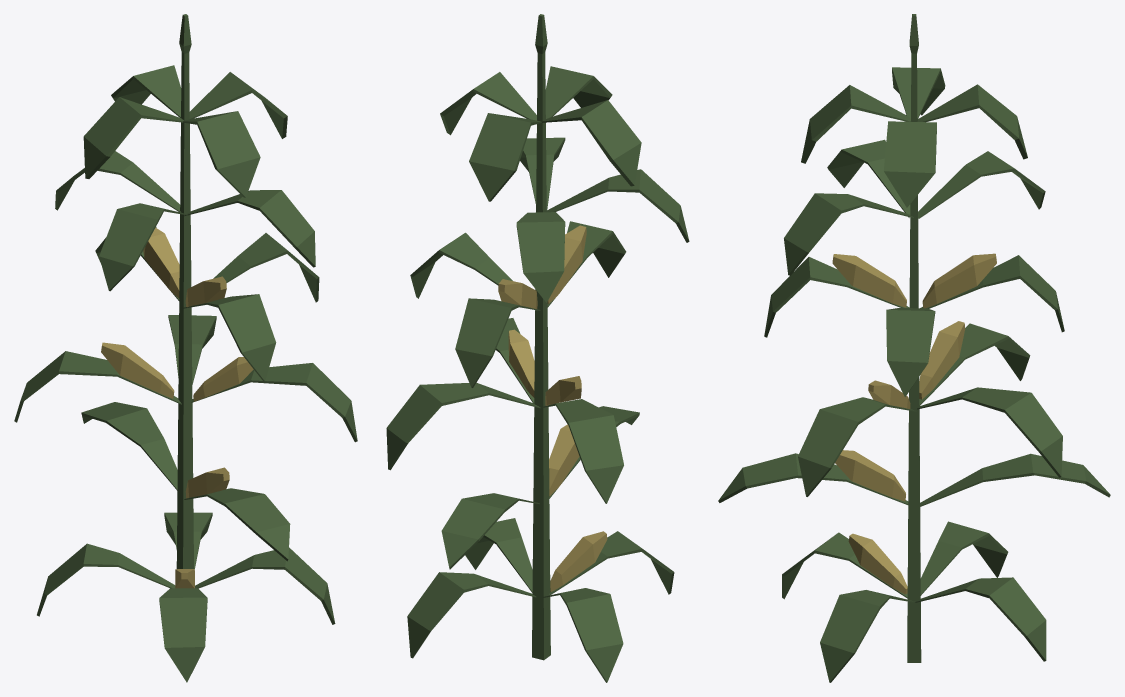
Rendered from Corn_2.gltf.
The picture shows the model from 3 angles, left to right: view 1: azimuth 30°, elevation 25°; view 2: azimuth 150°, elevation 25°; view 3: azimuth 270°, elevation 25°; orthographic projection.
Parts seen in each view (by area): view 1: Corn_2; view 2: Corn_2; view 3: Corn_2.
Part boxes in pixels (box(x1,y1,x2,y2)): Corn_2: box(14, 14, 357, 682); Corn_2: box(386, 14, 689, 682); Corn_2: box(718, 14, 1110, 682).
Bounding box in the file's own units: 0.8237 × 1.98 × 1.09.
